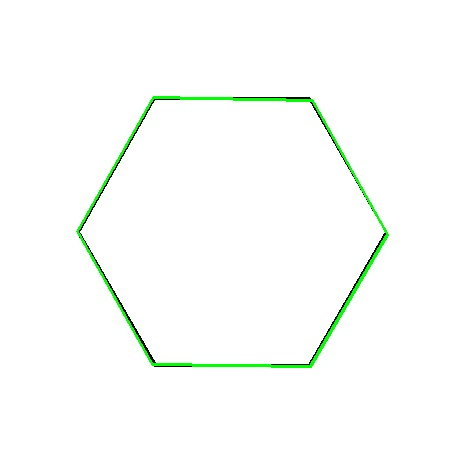line_segment: (77, 96, 388, 368)
